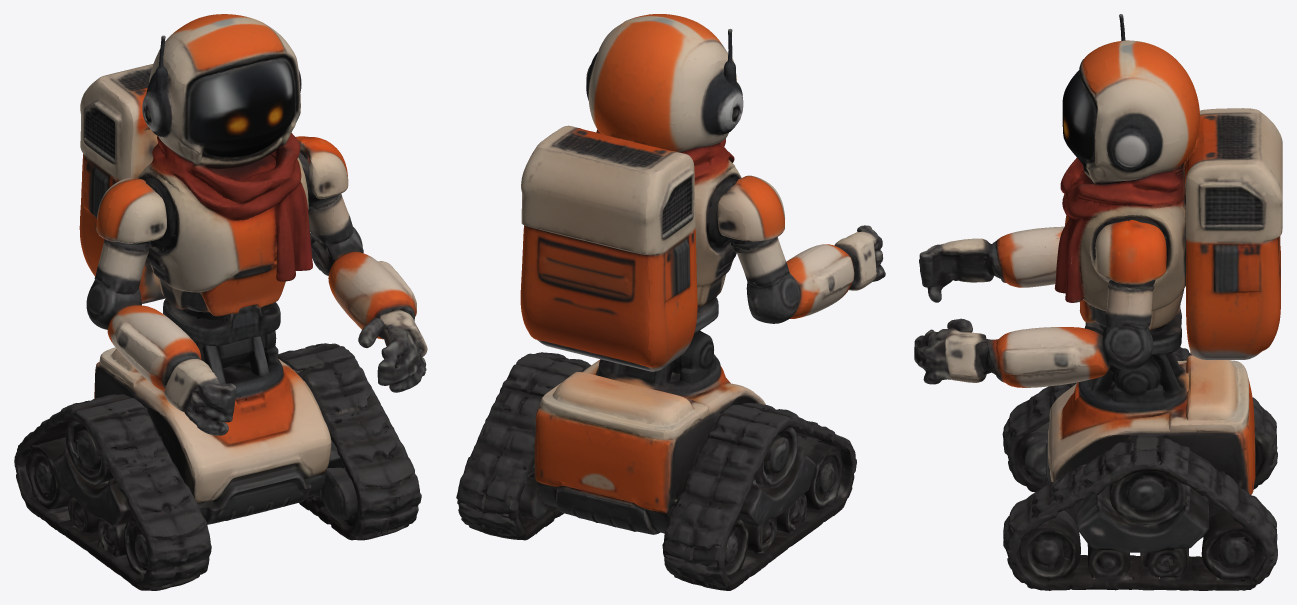
File: ark01.glb
3 renders of one model, left to right at view 1: azimuth 30°, elevation 25°; view 2: azimuth 150°, elevation 25°; view 3: azimuth 270°, elevation 25°, orthographic. The views are drawn at different scales.
Parts seen in each view (by area): view 1: world; view 2: world; view 3: world.
Part boxes in pixels (box(x1,y1,x2,y2)): world: box(14, 14, 427, 590); world: box(456, 14, 885, 590); world: box(914, 14, 1282, 590).
Size of the model in its own units: 0.181 by 0.32 by 0.2194.
1 material, 1 textured.
